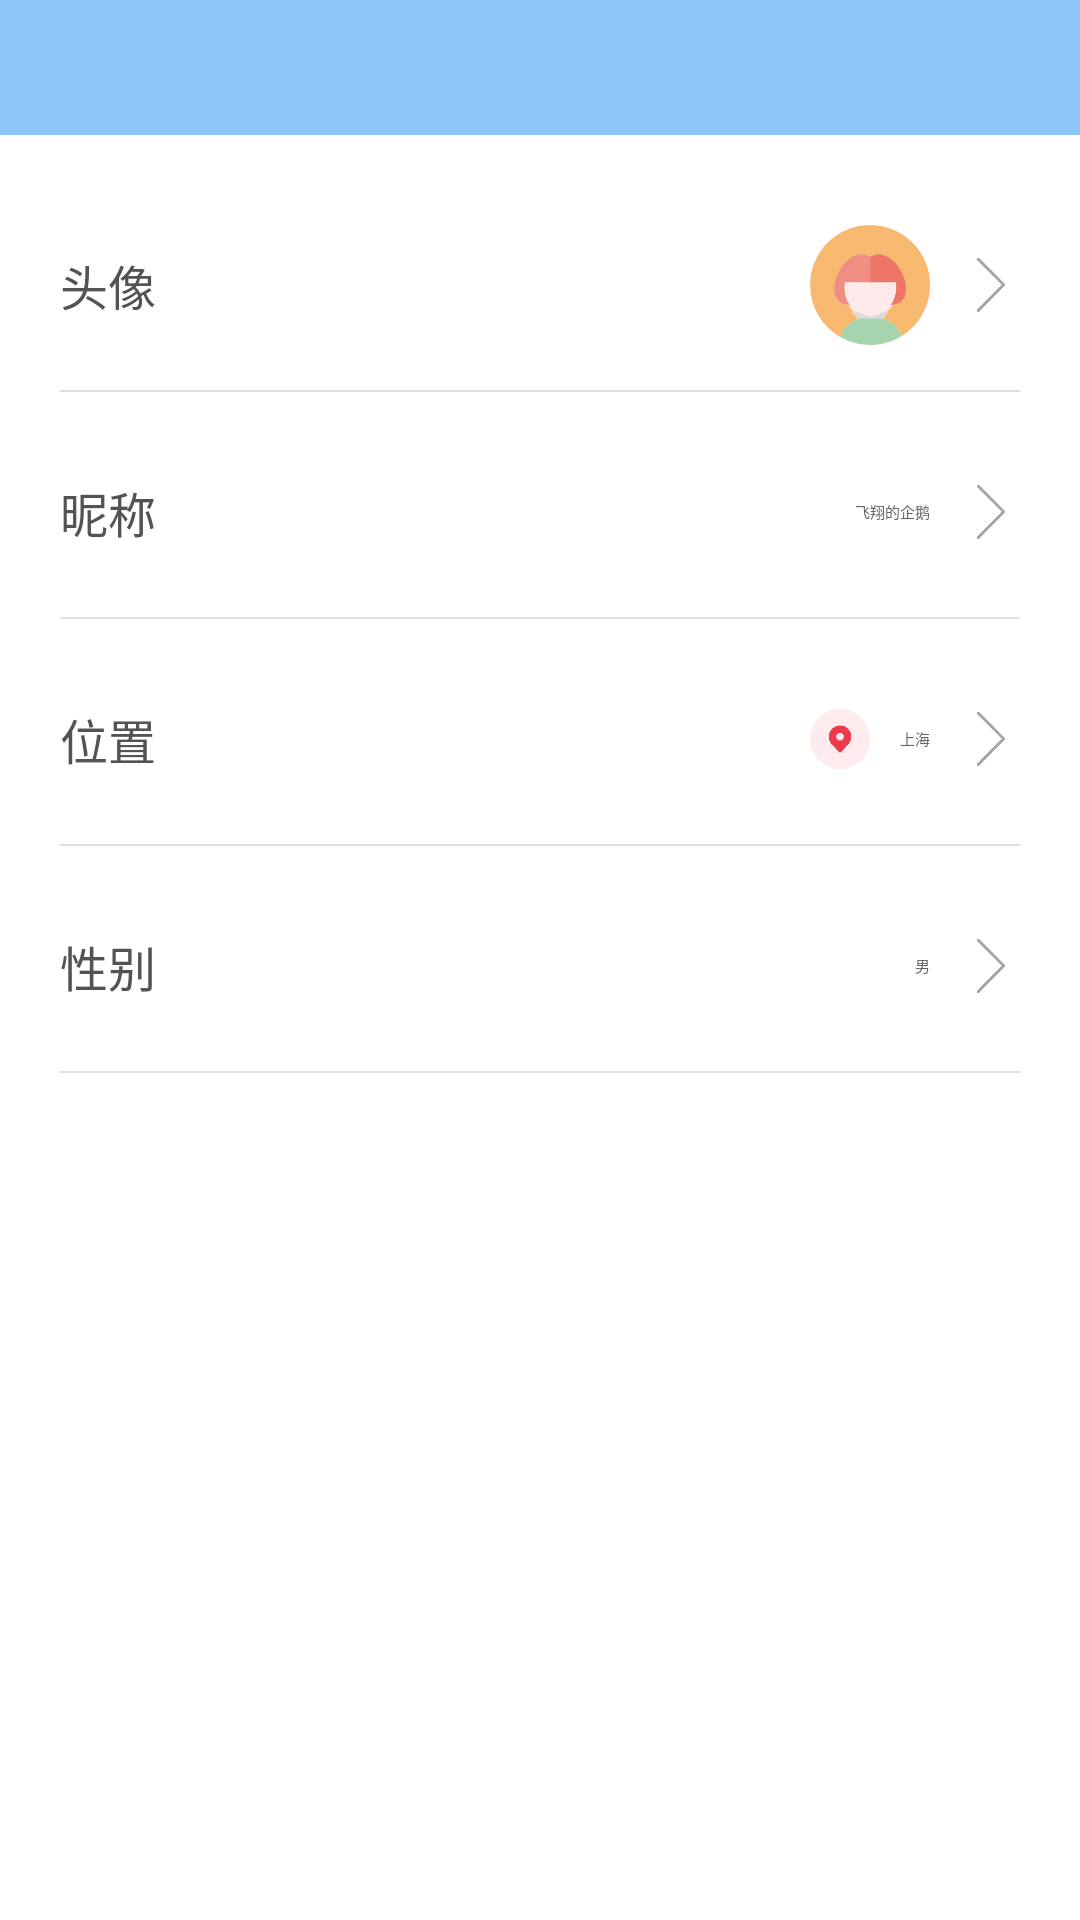

Screen size 1080px x 1920px. Icon name, then its center in pixels as point (x, y):
defaulttouxaing: point (870, 285)
jiantou: point (991, 285), point (991, 512), point (991, 739), point (991, 966)
location: point (840, 739)
